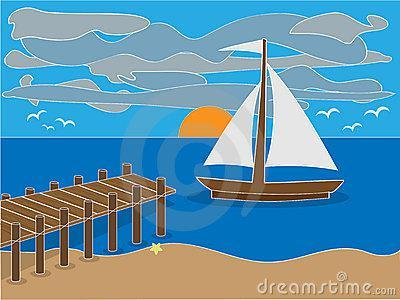boat: (189, 33, 347, 202)
